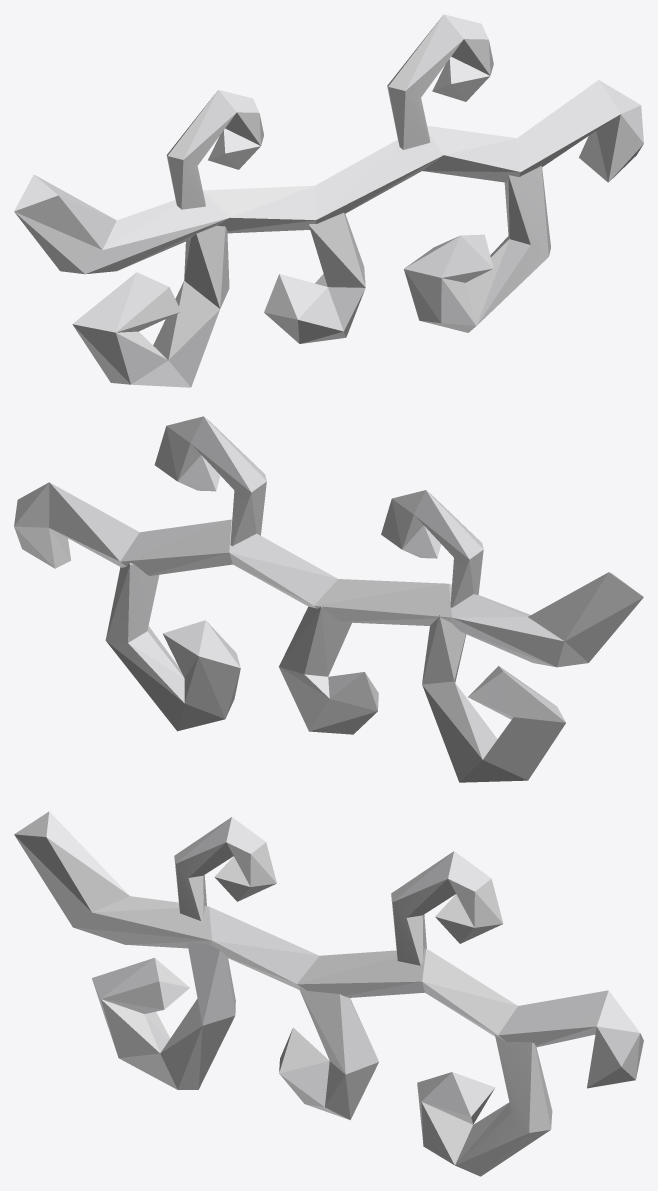
The model's file is stylize_cloud_20.fbx.
3 renders of one model, top to bottom at view 1: azimuth 30°, elevation 25°; view 2: azimuth 150°, elevation 25°; view 3: azimuth 330°, elevation 25°, orthographic.
Parts seen in each view (by area): view 1: cloud_100; view 2: cloud_100; view 3: cloud_100.
Boxes of the visible parts, left/top/right/bottom form: cloud_100: left=14, top=14, right=643, bottom=387; cloud_100: left=14, top=416, right=643, bottom=782; cloud_100: left=14, top=811, right=643, bottom=1176.
Bounding box in the file's own units: 759 × 374 × 51.26.
